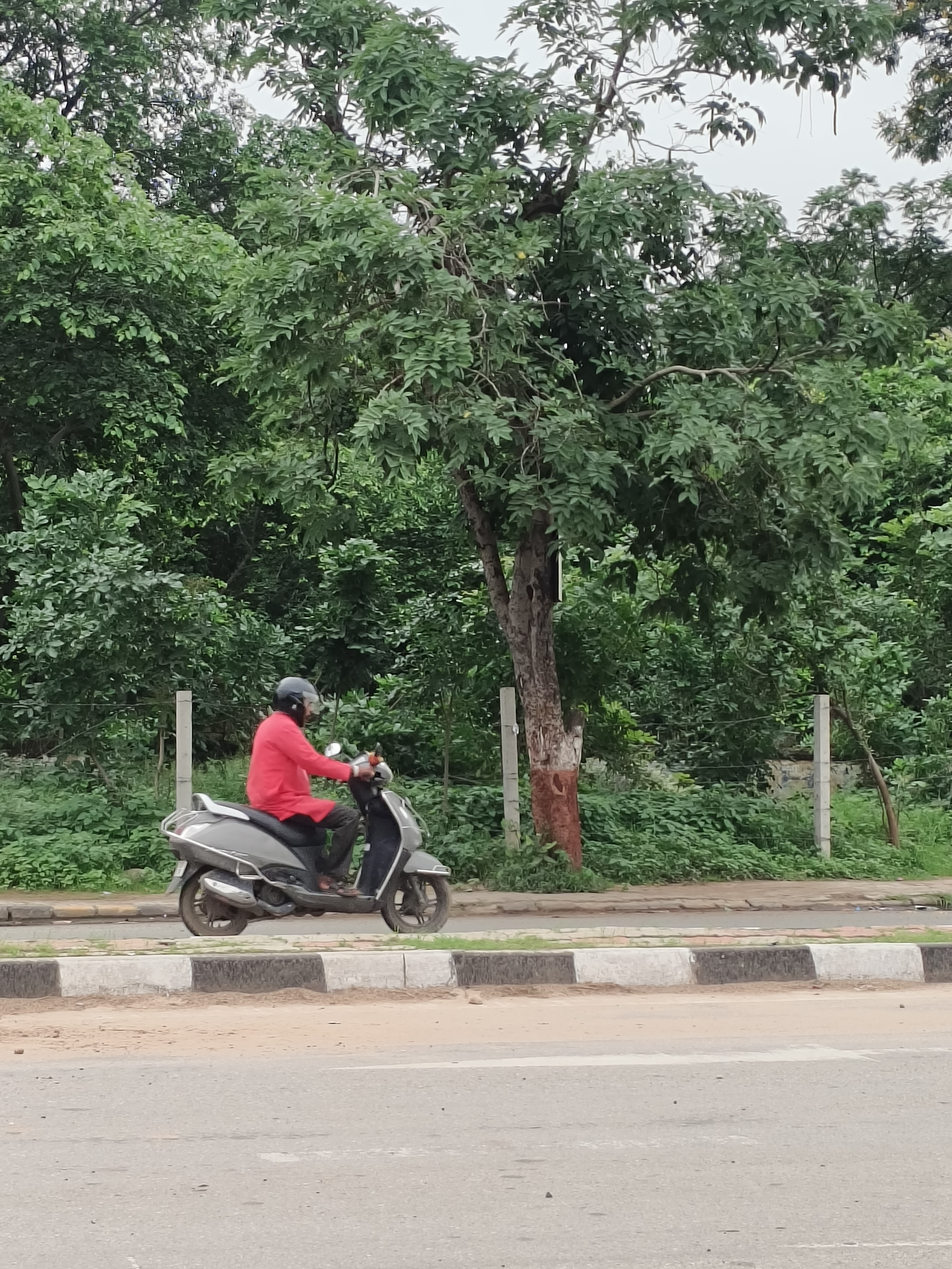BikeWithRider: (149, 670, 463, 948)
Helmet: (264, 670, 326, 731)
